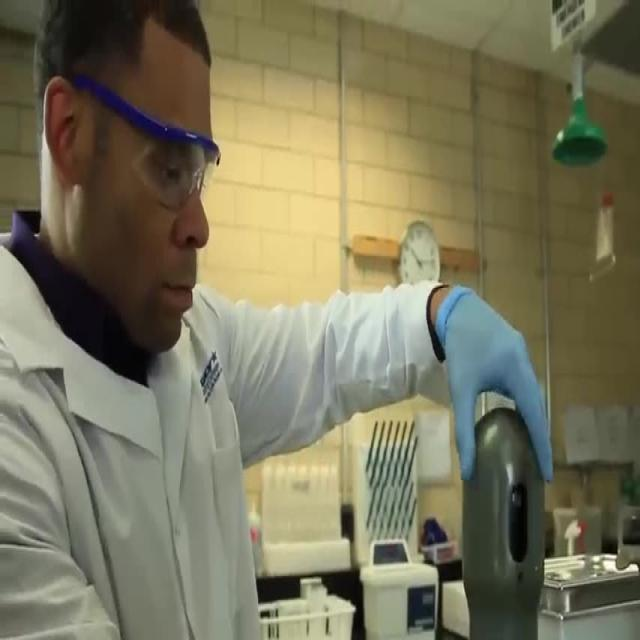googles: (132, 110, 223, 210)
labcoat: (0, 224, 456, 640)
